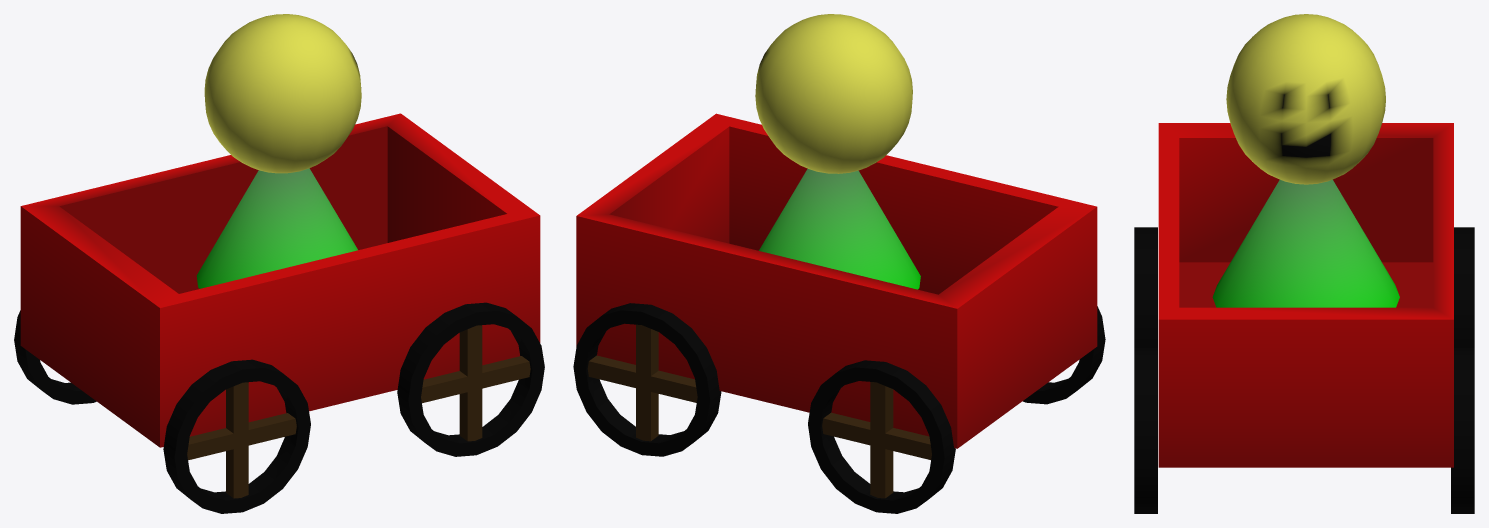
Rendered from cart.fbx.
3 renders of one model, left to right at view 1: azimuth 30°, elevation 25°; view 2: azimuth 150°, elevation 25°; view 3: azimuth 270°, elevation 25°, orthographic. The views are drawn at different scales.
Parts seen in each view (by area): view 1: cart, pSphere1, wheel, wheel1, pCone1, wheel2; view 2: cart, pSphere1, wheel2, wheel3, pCone1, wheel1; view 3: cart, pSphere1, pCone1, wheel, wheel3, wheel1, wheel2.
Part boxes in pixels (<box>): cart: <box>20,113,540,447</box>; pSphere1: <box>204,14,361,173</box>; wheel: <box>397,302,544,456</box>; wheel1: <box>163,359,310,513</box>; pCone1: <box>196,168,357,288</box>; wheel2: <box>14,310,96,404</box>; cart: <box>576,113,1097,448</box>; pSphere1: <box>755,14,912,173</box>; wheel2: <box>808,360,955,513</box>; wheel3: <box>573,303,721,456</box>; pCone1: <box>759,169,920,289</box>; wheel1: <box>1023,306,1105,404</box>; cart: <box>1158,123,1453,467</box>; pSphere1: <box>1226,14,1385,184</box>; pCone1: <box>1212,179,1399,307</box>; wheel: <box>1134,348,1157,513</box>; wheel3: <box>1451,348,1474,513</box>; wheel1: <box>1134,227,1157,347</box>; wheel2: <box>1454,227,1474,347</box>.
Bounding box in the file's own units: 2.85 × 2.88 × 2.08.
